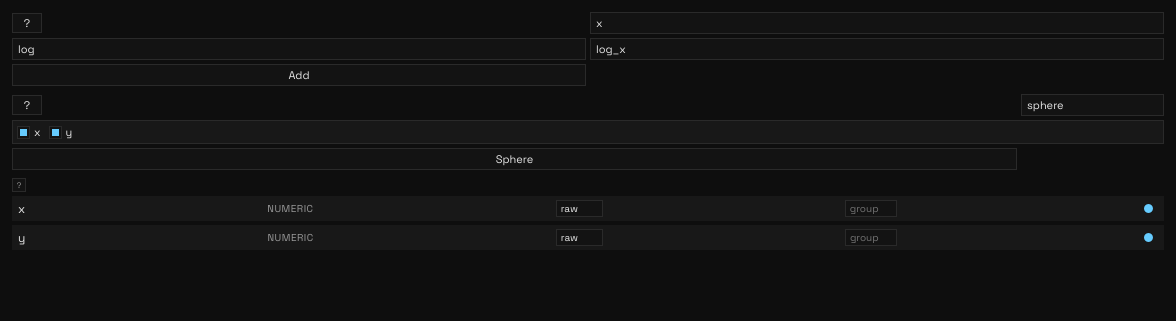
Test: VariablePanel › creates sphered variables from selected numeric columns
The width and height of the screenshot is (1176, 321).
Expected: the checkbox named "sphere variable x" is checked, [17,126,30,138]
Expected: the checkbox named "sphere variable y" is checked, [48,126,62,138]
Click the button with aria-label "add sphered variables" at (514,159), box [12,148,1017,170]
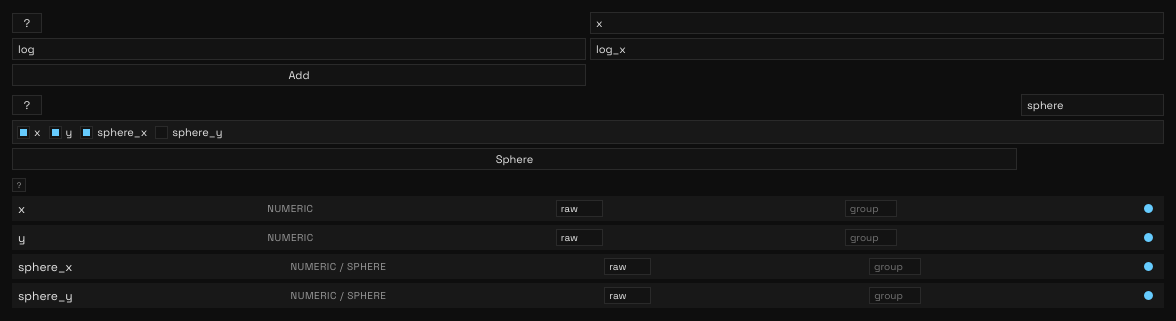
Now the 2nd text "sphere_x" is shown, box [18,258,72,274]
Now the 2nd text "sphere_y" is shown, box [18,288,73,304]
